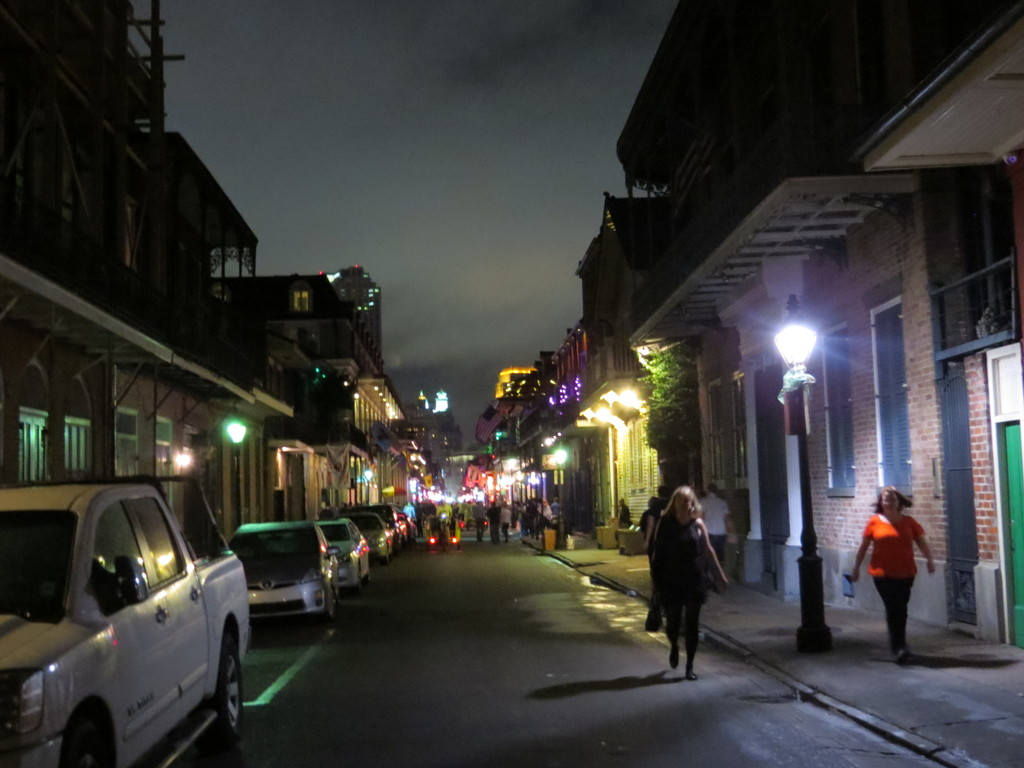mobil: (1, 477, 234, 768)
